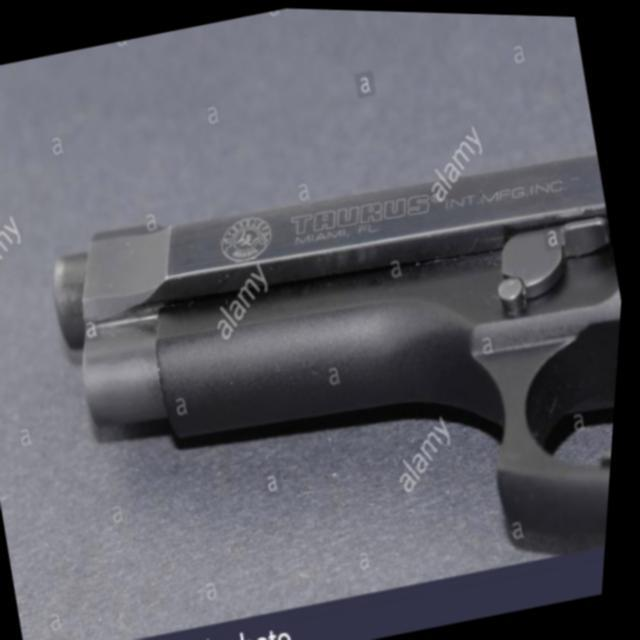weapon: (29, 113, 634, 640)
